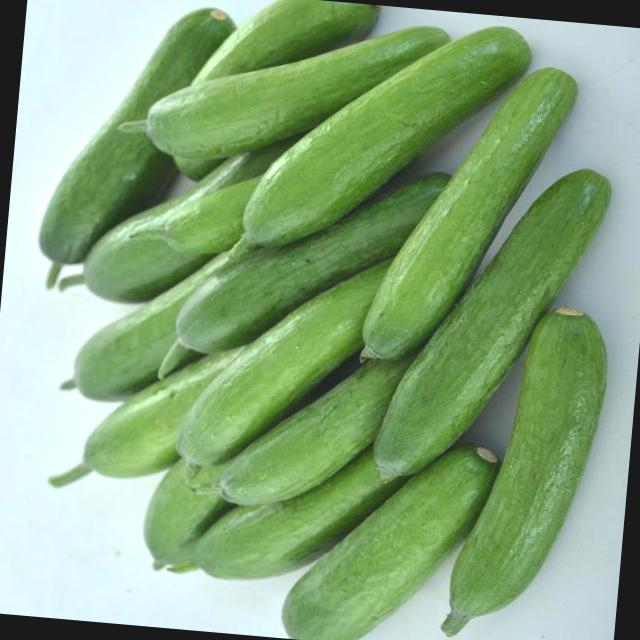Cucumber: (372, 160, 609, 488), (240, 11, 530, 266), (171, 157, 441, 372), (443, 305, 606, 640), (34, 0, 228, 279), (170, 251, 388, 480), (283, 436, 493, 640)
